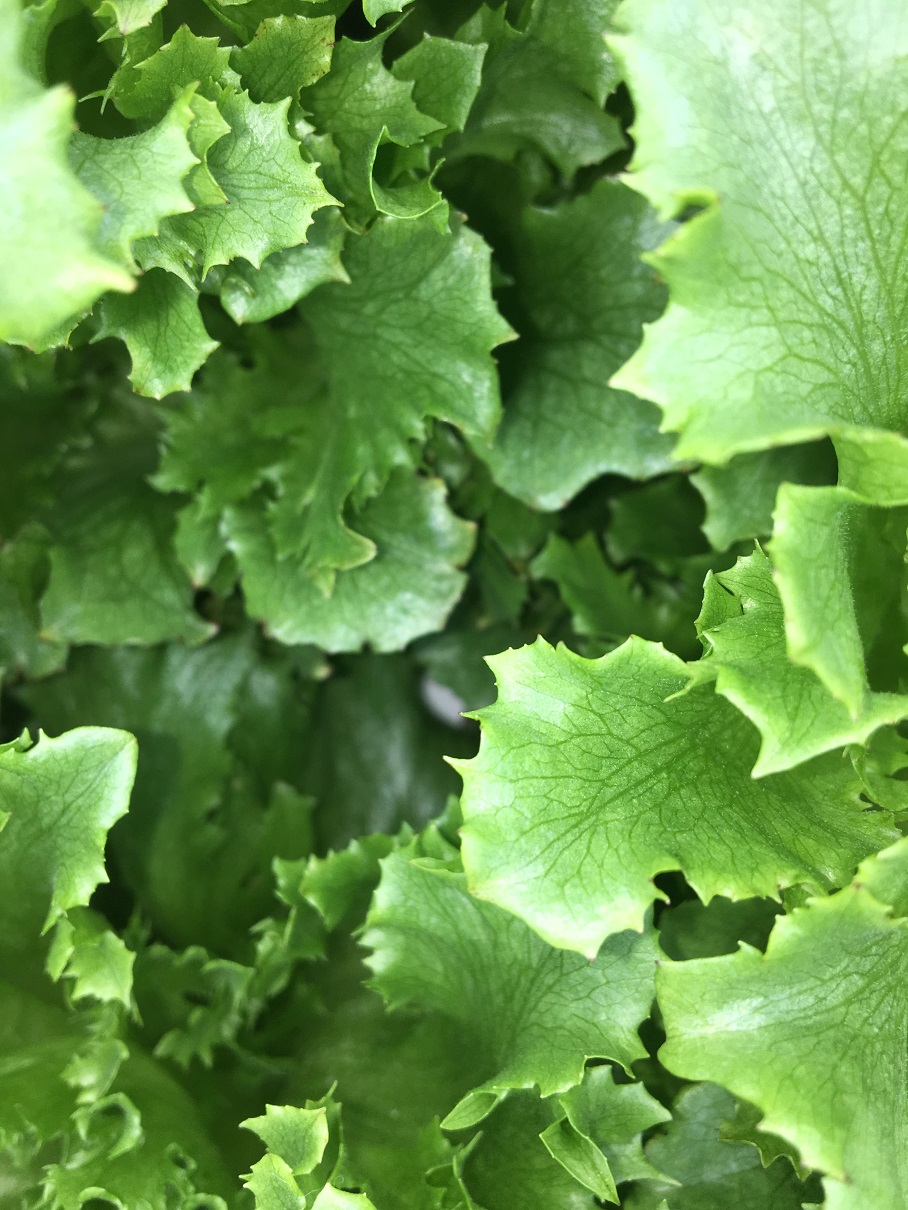tipburn: (298, 544, 350, 623), (168, 547, 221, 599), (667, 175, 723, 221), (22, 610, 62, 658), (827, 1158, 870, 1202), (204, 180, 247, 222), (90, 189, 133, 231), (111, 11, 160, 47), (755, 552, 797, 593), (570, 934, 611, 976), (756, 867, 798, 907), (194, 608, 234, 650), (447, 198, 485, 239), (295, 221, 329, 265), (115, 371, 155, 407), (840, 870, 876, 908), (548, 487, 586, 523), (241, 13, 280, 45), (298, 55, 334, 89), (312, 25, 348, 58), (643, 949, 678, 977), (643, 264, 674, 290)
